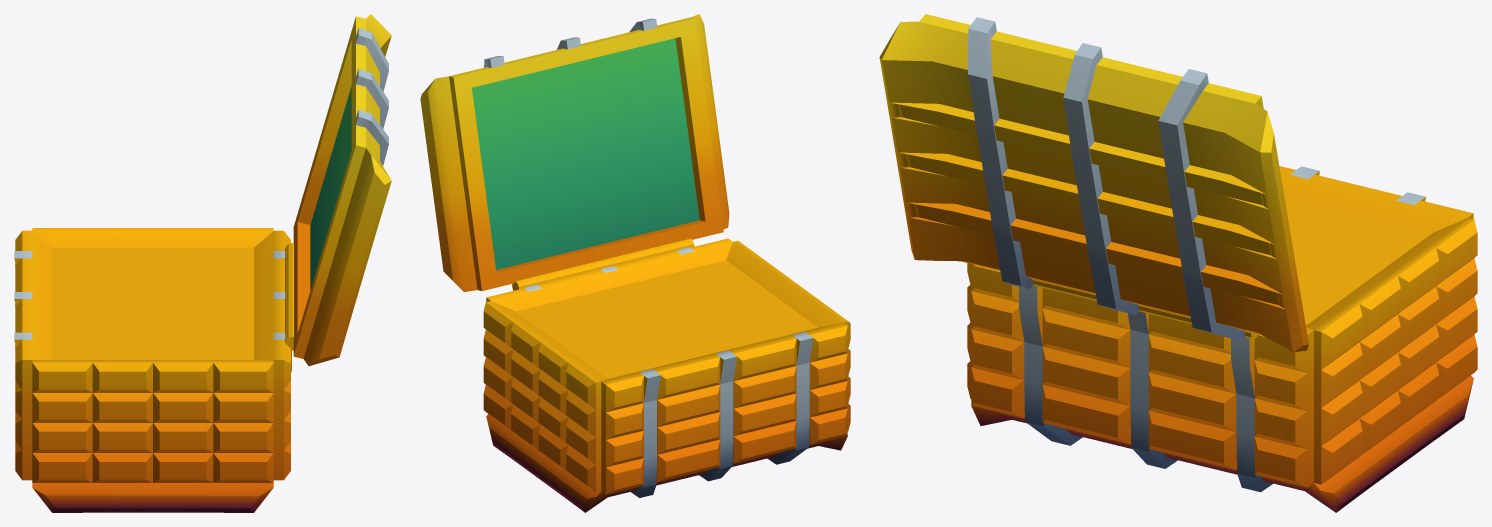
The model's file is CHIPS_console.fbx.
3 views of the same model, side by side, from view 1: azimuth 30°, elevation 25°; view 2: azimuth 150°, elevation 25°; view 3: azimuth 270°, elevation 25° (orthographic). The views are drawn at different scales.
Parts seen in each view (by area): view 1: CHIPS_console; view 2: CHIPS_console; view 3: CHIPS_console.
Boxes of the visible parts, x1=… form: CHIPS_console: x1=14, y1=14, x2=391, y2=512; CHIPS_console: x1=420, y1=14, x2=850, y2=512; CHIPS_console: x1=879, y1=14, x2=1477, y2=512.
Bounding box in the file's own units: 0.00699 × 0.00592 × 0.00679.
2 materials, 2 textured.
